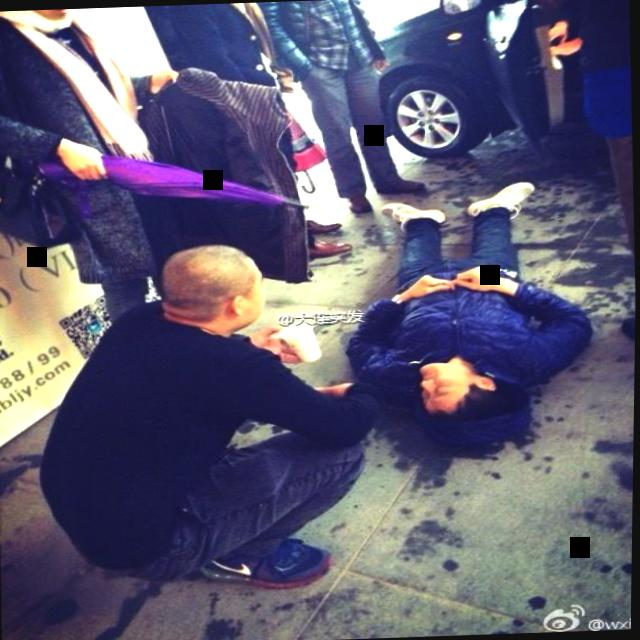Fall-Detected: (322, 178, 608, 454)
